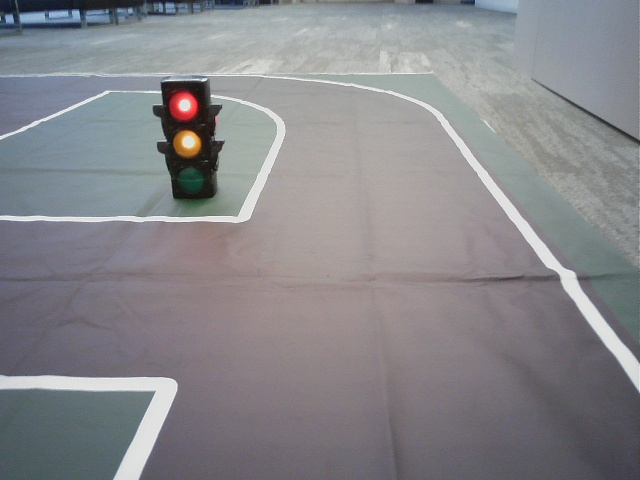red: (165, 84, 210, 193)
